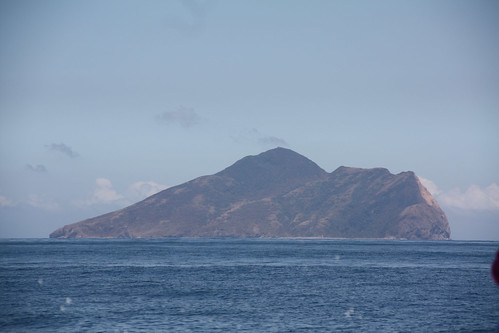turtleIsland: (50, 143, 450, 243)
